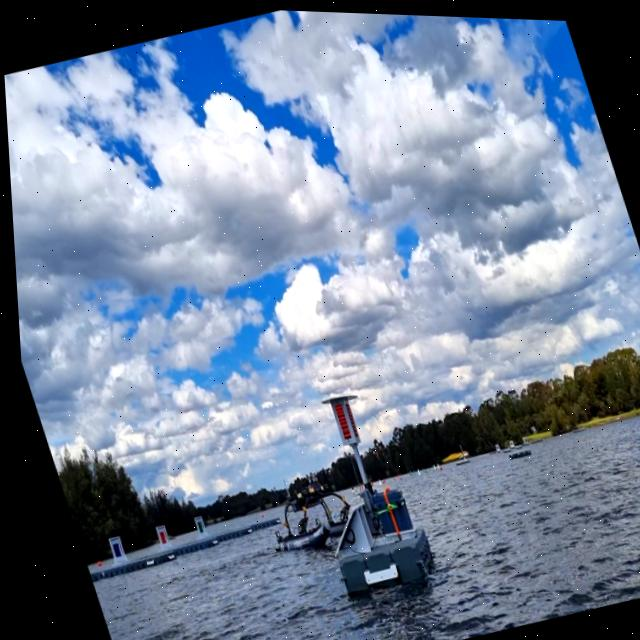led: (326, 397, 349, 441)
